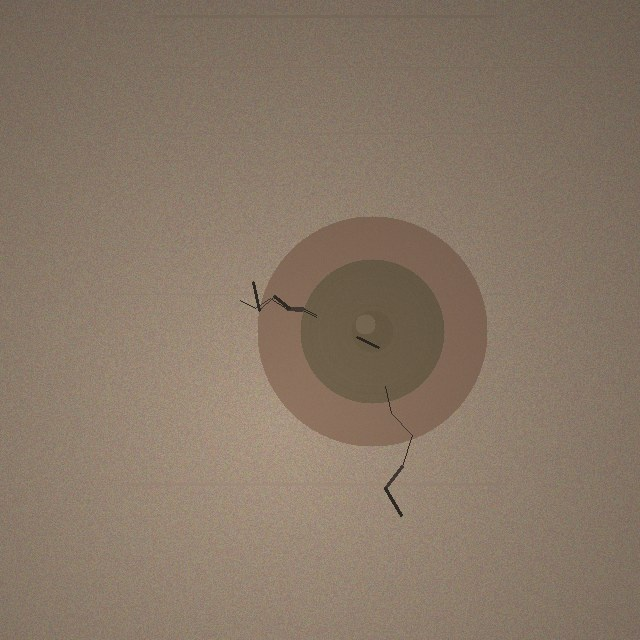crack: (257, 216, 487, 446)
